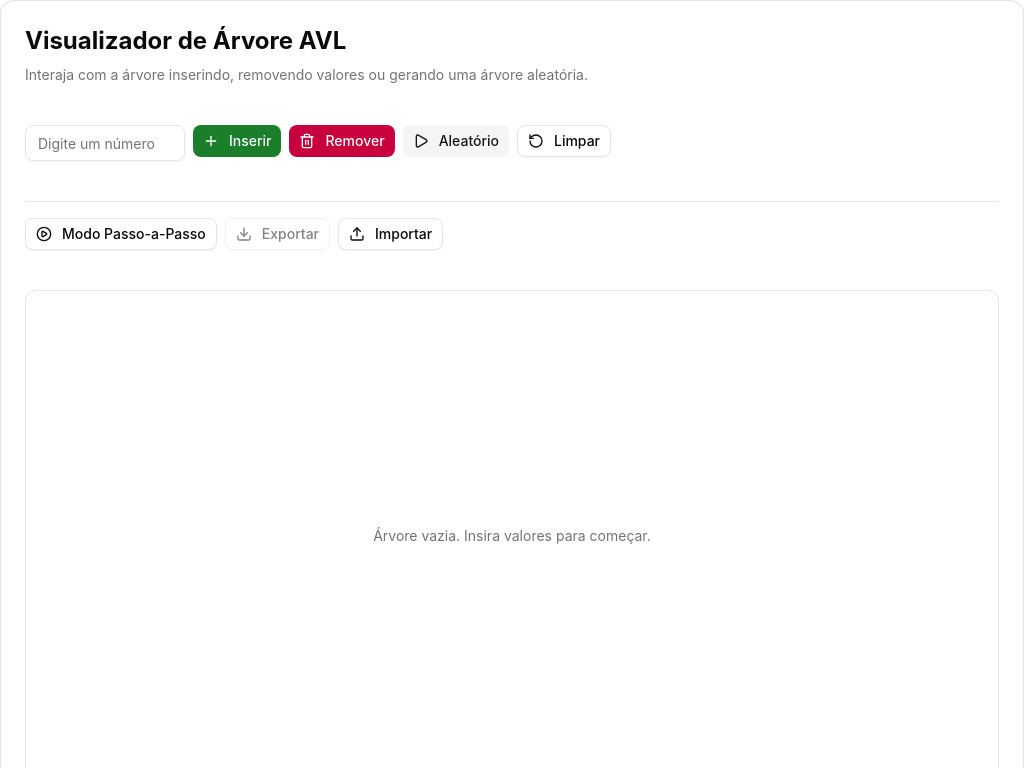
Test case: TreeVisualizer › shows tree stats after inserting values
In the number field with placeholder "Digite um número": (105, 143) [25,125,185,161], type "42"
Then press Enter
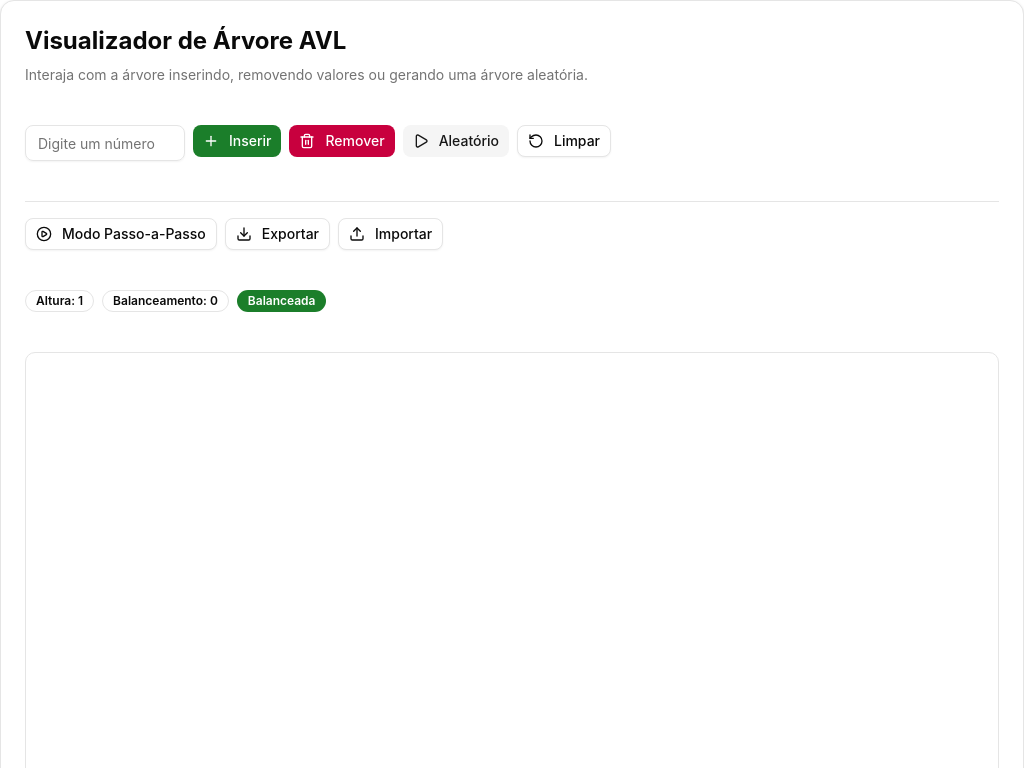
Now the text "Altura: 1" is shown, box [25,290,94,312]
